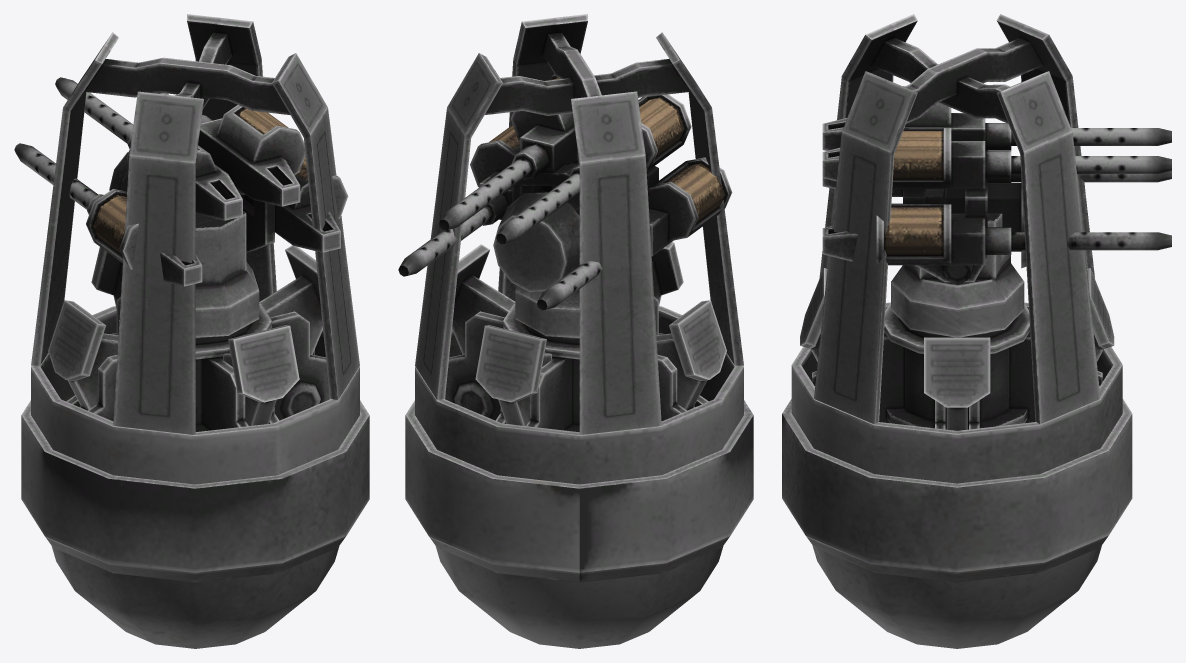
3 views of the same model, side by side, from view 1: azimuth 30°, elevation 25°; view 2: azimuth 150°, elevation 25°; view 3: azimuth 270°, elevation 25° (orthographic).
Parts seen in each view (by area): view 1: break_4, break_2, break_3, mantlet_1, break_1, base, turret, leg_1, leg_4, leg_2, barrel_3, barrel_4 (+1 smaller); view 2: break_4, break_2, mantlet_1, break_3, break_1, base, leg_3, leg_4, leg_2, turret, barrel_2, barrel_3 (+3 smaller); view 3: break_4, break_2, mantlet_1, break_3, break_1, base, turret, leg_2, barrel_1, barrel_2, barrel_3, leg_1 (+2 smaller).
Boxes of the visible parts, x1=… form: break_4: x1=31, y1=14, x2=359, y2=434; break_2: x1=21, y1=400, x2=369, y2=582; break_3: x1=31, y1=306, x2=359, y2=484; mantlet_1: x1=86, y1=105, x2=348, y2=286; break_1: x1=51, y1=546, x2=339, y2=648; base: x1=66, y1=296, x2=329, y2=431; turret: x1=195, y1=211, x2=259, y2=337; leg_1: x1=222, y1=325, x2=299, y2=425; leg_4: x1=48, y1=300, x2=118, y2=410; leg_2: x1=259, y1=245, x2=322, y2=354; barrel_3: x1=55, y1=77, x2=133, y2=143; barrel_4: x1=14, y1=143, x2=98, y2=209; break_4: x1=415, y1=14, x2=743, y2=434; break_2: x1=405, y1=400, x2=753, y2=582; mantlet_1: x1=470, y1=74, x2=732, y2=291; break_3: x1=415, y1=306, x2=743, y2=484; break_1: x1=435, y1=546, x2=723, y2=648; base: x1=445, y1=296, x2=708, y2=432; leg_3: x1=475, y1=325, x2=552, y2=425; leg_4: x1=656, y1=300, x2=726, y2=410; leg_2: x1=452, y1=244, x2=515, y2=354; turret: x1=515, y1=285, x2=579, y2=337; barrel_2: x1=439, y1=157, x2=532, y2=230; barrel_3: x1=496, y1=171, x2=579, y2=244; break_4: x1=814, y1=14, x2=1100, y2=424; break_2: x1=782, y1=399, x2=1132, y2=582; mantlet_1: x1=822, y1=86, x2=1026, y2=284; break_3: x1=791, y1=302, x2=1122, y2=483; break_1: x1=812, y1=545, x2=1101, y2=648; base: x1=812, y1=302, x2=1102, y2=429; turret: x1=891, y1=189, x2=1024, y2=337; leg_2: x1=924, y1=337, x2=990, y2=430; barrel_1: x1=1011, y1=232, x2=1171, y2=250; barrel_2: x1=1011, y1=156, x2=1171, y2=173; barrel_3: x1=1011, y1=128, x2=1171, y2=145; leg_1: x1=800, y1=268, x2=884, y2=361.
Bounding box in the file's own units: 23 × 42.14 × 25.59.
1 material, 1 textured.
